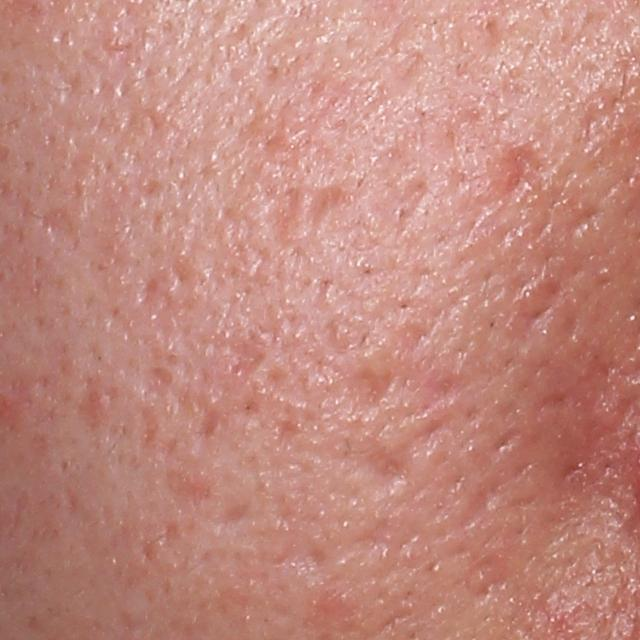atrophic_scar: (374, 354, 456, 423), (272, 500, 324, 579), (505, 276, 566, 341), (368, 175, 430, 230), (500, 142, 549, 203), (365, 444, 413, 497), (311, 183, 354, 239), (221, 335, 269, 383), (351, 366, 394, 413), (39, 205, 78, 249), (204, 496, 252, 530), (141, 365, 176, 401), (134, 404, 158, 455), (135, 273, 160, 315), (201, 403, 223, 442), (160, 516, 183, 548)
